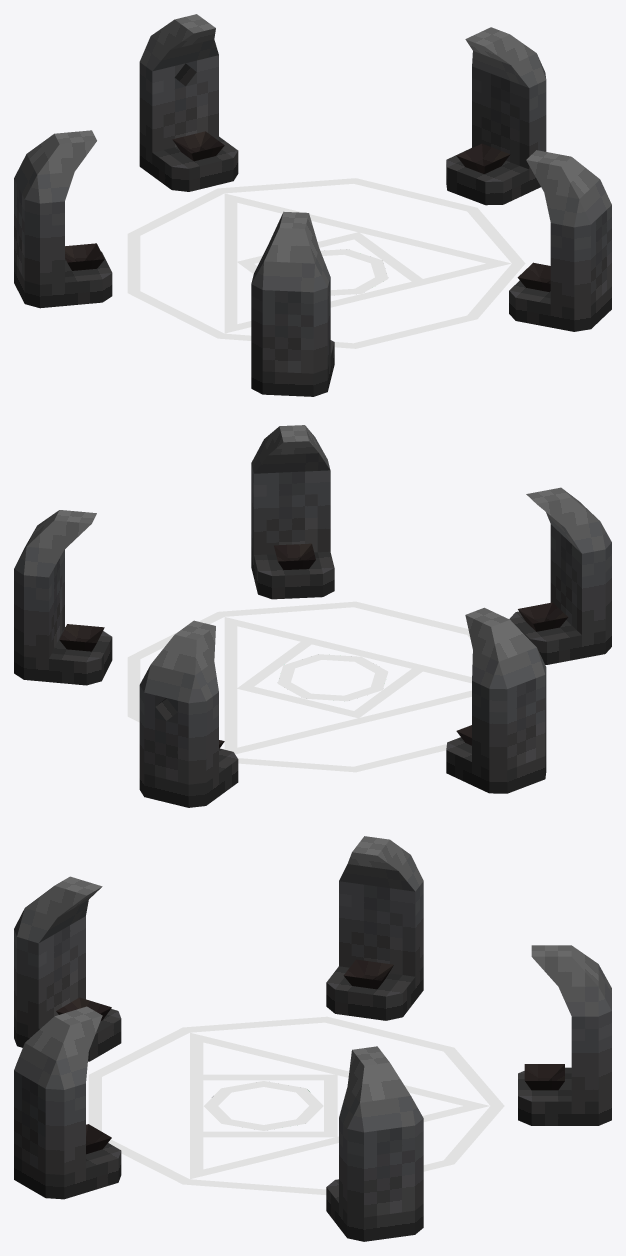
The model's file is circle_fabrication_inventory.obj.
3 views of the same model, one above another, from view 1: azimuth 30°, elevation 25°; view 2: azimuth 150°, elevation 25°; view 3: azimuth 270°, elevation 25° (orthographic). The views are drawn at different scales.
Visible parts, largest first — view 1: CIRCLE_FABRICATION_STANDING_STONES_Cube.045, CIRCLE_FABRICATION_CHALK_CIRCLE_Circle.001; view 2: CIRCLE_FABRICATION_STANDING_STONES_Cube.045, CIRCLE_FABRICATION_CHALK_CIRCLE_Circle.001; view 3: CIRCLE_FABRICATION_STANDING_STONES_Cube.045, CIRCLE_FABRICATION_CHALK_CIRCLE_Circle.001.
Boxes of the visible parts, x1,y1,x2,y2 form: CIRCLE_FABRICATION_STANDING_STONES_Cube.045: [14, 14, 611, 396]; CIRCLE_FABRICATION_CHALK_CIRCLE_Circle.001: [127, 178, 525, 348]; CIRCLE_FABRICATION_STANDING_STONES_Cube.045: [14, 425, 611, 807]; CIRCLE_FABRICATION_CHALK_CIRCLE_Circle.001: [127, 601, 471, 772]; CIRCLE_FABRICATION_STANDING_STONES_Cube.045: [14, 836, 611, 1241]; CIRCLE_FABRICATION_CHALK_CIRCLE_Circle.001: [88, 1016, 504, 1194].
Bounding box in the file's own units: 2.93 × 0.8125 × 2.79.
